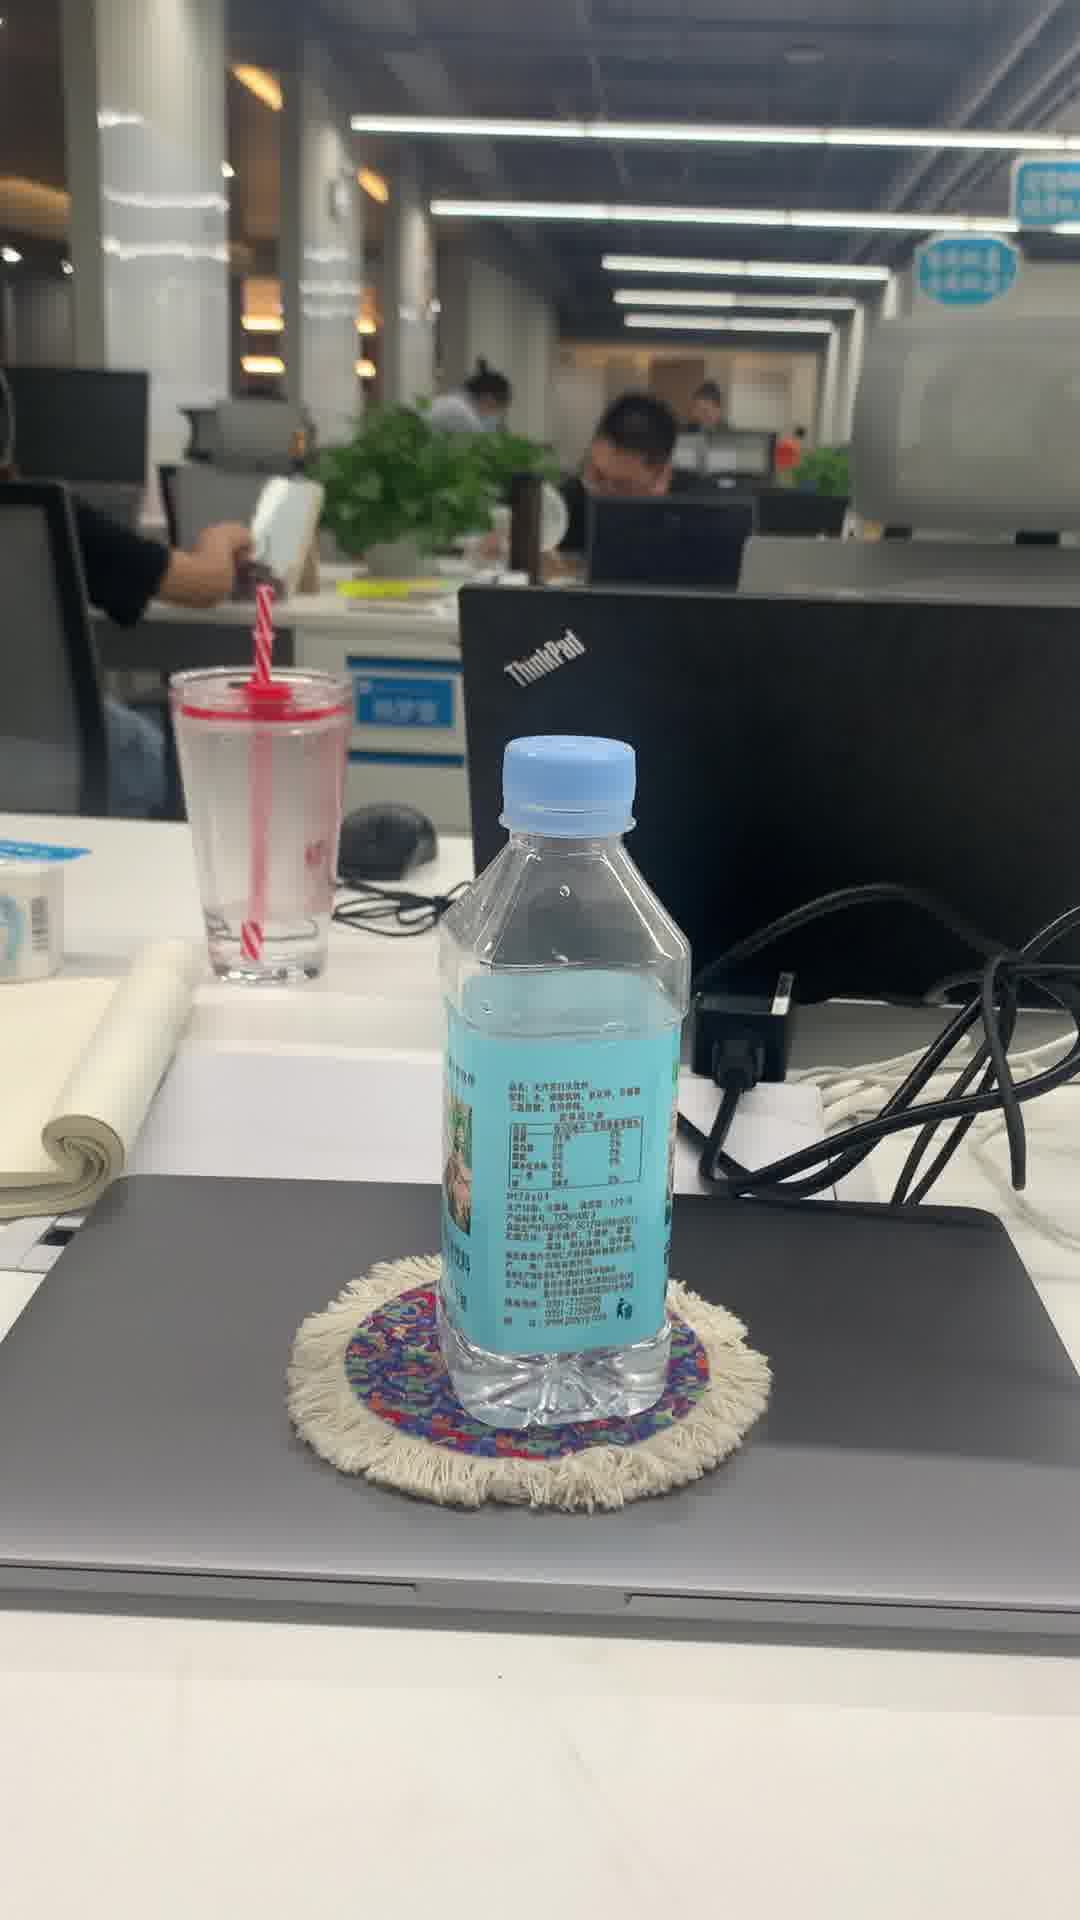水瓶: (427, 723, 694, 1435)
